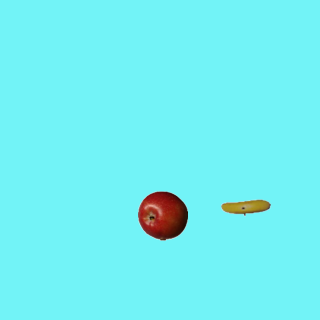Apple Braeburn: (137, 190, 187, 240)
Banana: (220, 182, 270, 232)
